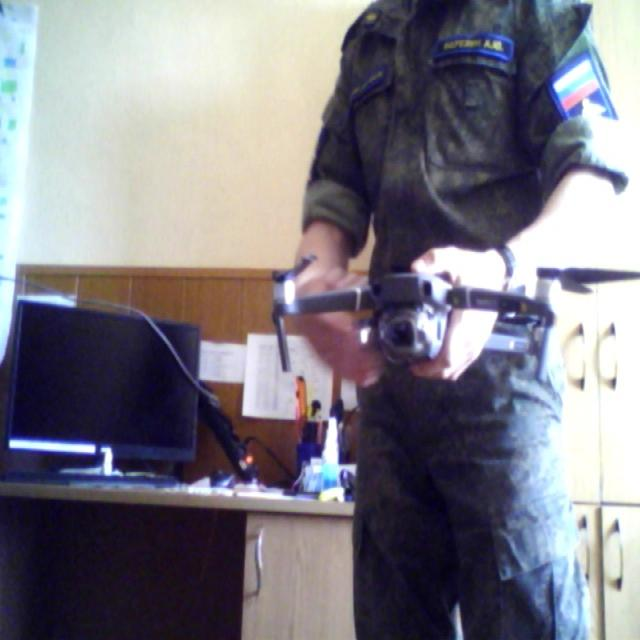drone: (248, 239, 621, 380)
